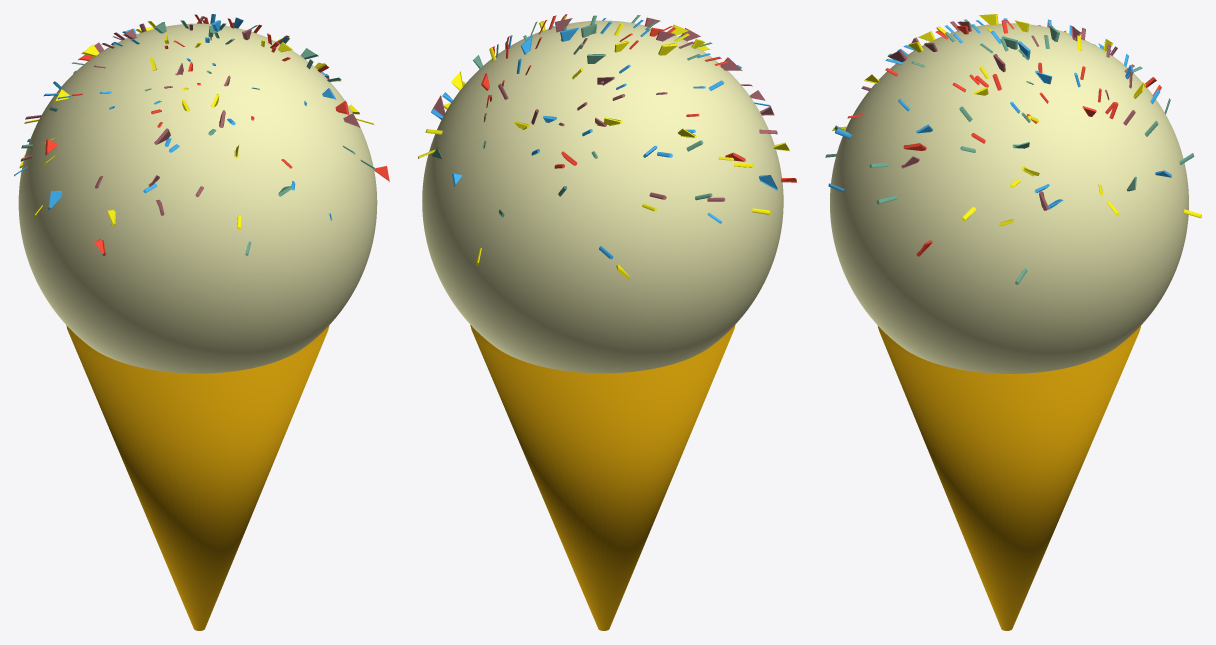
File: icecreampurple.glb
3 renders of one model, left to right at view 1: azimuth 30°, elevation 25°; view 2: azimuth 150°, elevation 25°; view 3: azimuth 270°, elevation 25°, orthographic.
Visible parts, largest first — view 1: Scoop.003, WaffleCone.003; view 2: Scoop.003, WaffleCone.003; view 3: Scoop.003, WaffleCone.003.
Boxes of the visible parts, x1,y1,x2,y2 form: Scoop.003: (18, 23, 377, 373); WaffleCone.003: (66, 325, 329, 630); Scoop.003: (422, 20, 783, 373); WaffleCone.003: (470, 325, 735, 630); Scoop.003: (830, 23, 1188, 373); WaffleCone.003: (877, 325, 1140, 630).
Size of the model in its own units: 1.6 by 2.74 by 1.57.
